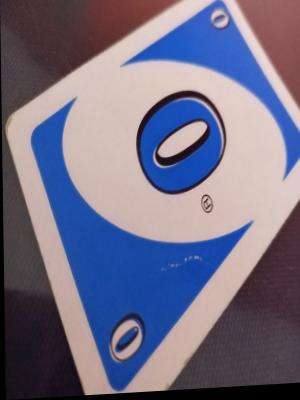blue: (39, 89, 293, 239)
num_0: (84, 298, 158, 373), (207, 5, 231, 37)
